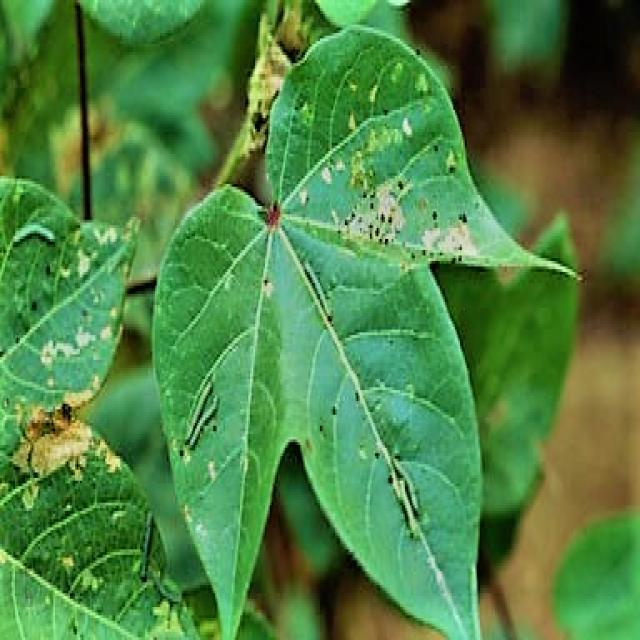armyworm: (184, 379, 222, 457), (11, 221, 59, 258)
